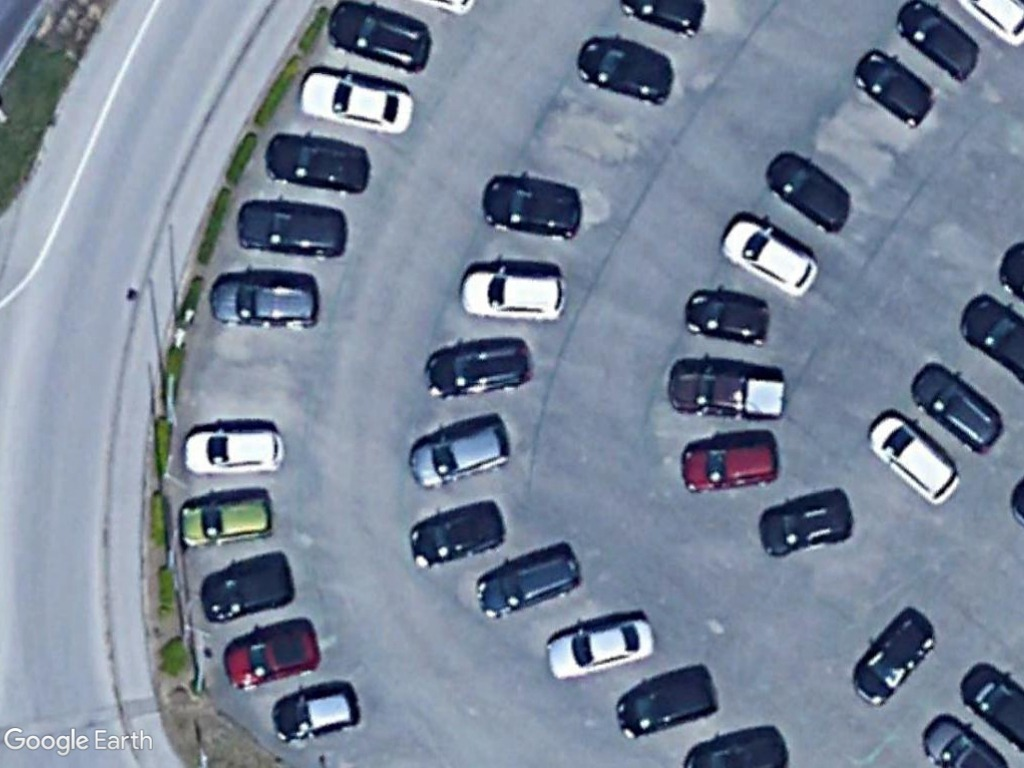car: (864, 408, 962, 506), (909, 362, 1006, 456), (718, 212, 822, 298), (846, 614, 937, 710), (762, 149, 857, 238), (325, 0, 435, 76), (295, 67, 416, 136), (472, 548, 584, 619), (849, 45, 939, 131), (542, 615, 660, 680), (571, 37, 680, 107), (609, 670, 718, 740), (233, 197, 352, 261), (261, 131, 376, 196), (890, 0, 982, 81), (206, 272, 326, 333), (478, 176, 588, 242), (408, 421, 514, 489), (406, 502, 507, 572), (222, 622, 321, 691), (423, 340, 535, 400), (200, 560, 296, 626), (755, 497, 855, 560), (173, 493, 279, 552), (456, 268, 571, 322), (679, 439, 782, 495), (181, 425, 286, 478), (680, 288, 774, 344), (270, 688, 361, 745)
other: (665, 365, 793, 424)
